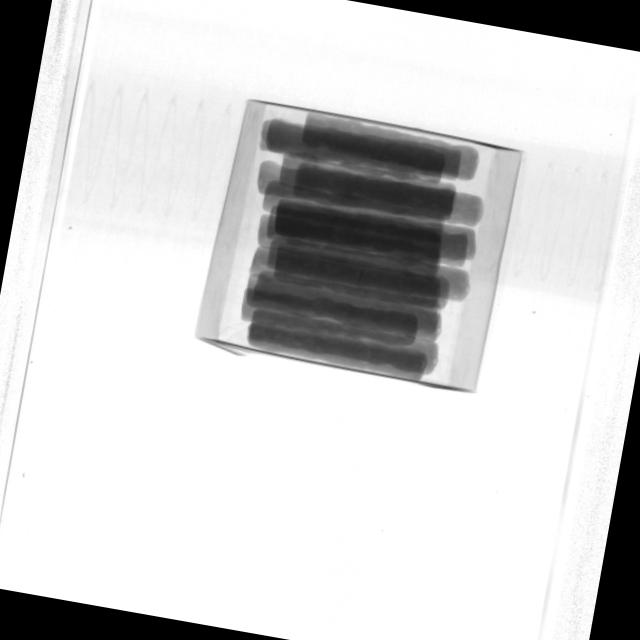ym: (356, 269, 364, 287)
